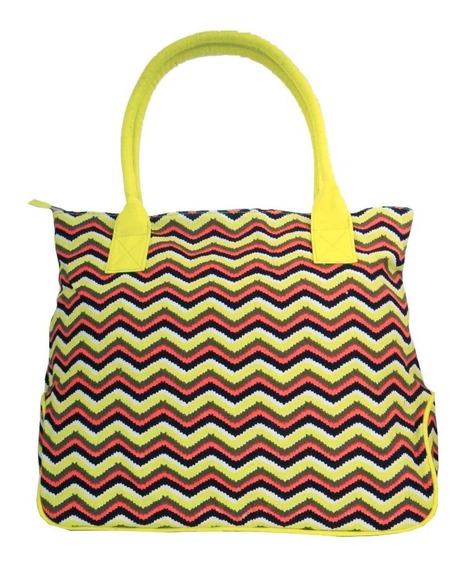cartera: (25, 27, 441, 539)
